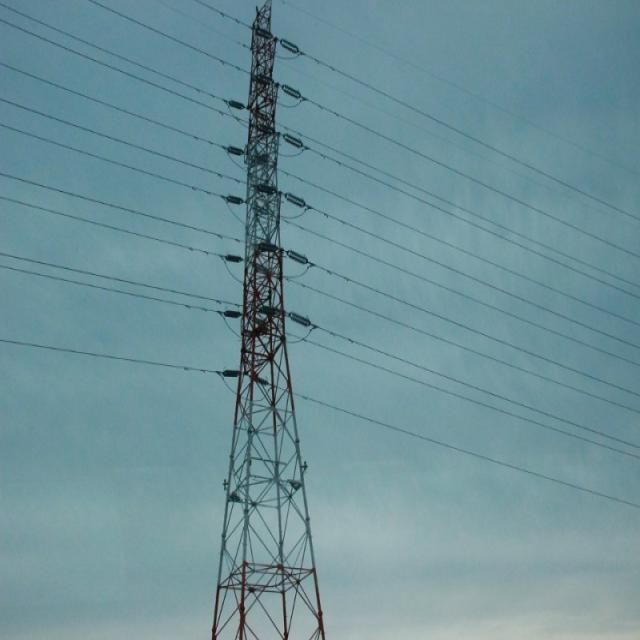non-critical vegetation: (193, 11, 328, 633)
